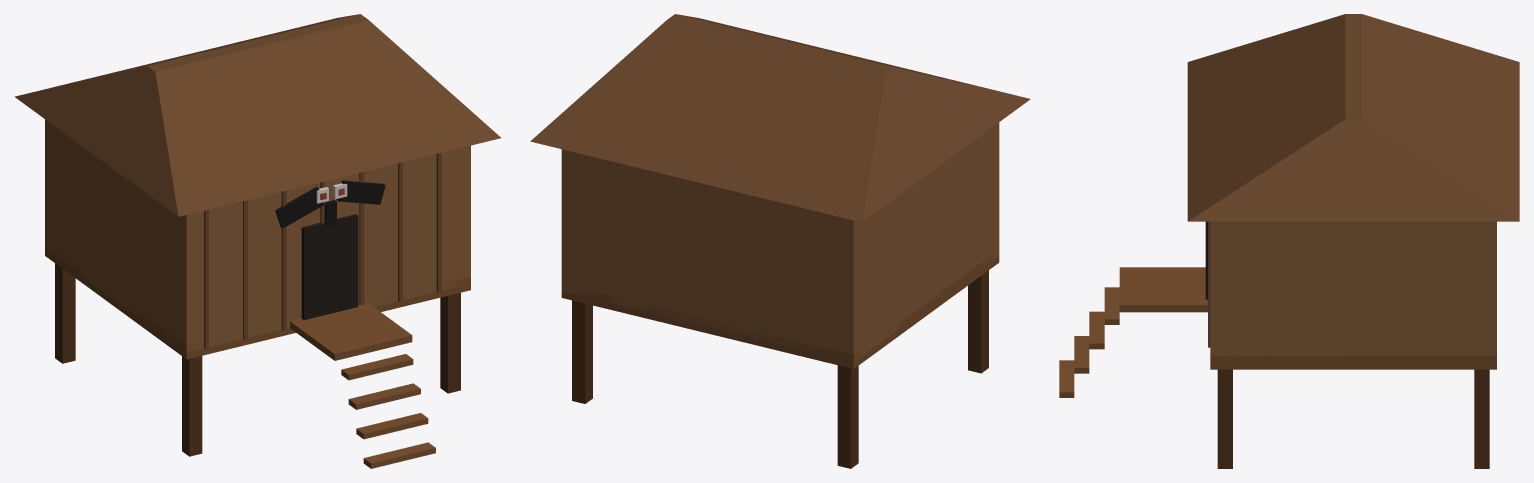
The model's file is bird_house_a_broken.glb.
3 renders of one model, left to right at view 1: azimuth 30°, elevation 25°; view 2: azimuth 150°, elevation 25°; view 3: azimuth 270°, elevation 25°, orthographic. The views are drawn at different scales.
Visible parts, largest first — view 1: bird_house_a_piece1, bird_house_a_piece13, bird_house_a_piece5, bird_house_a_piece0, bird_house_a_piece2, bird_house_a_piece7, bird_house_a_piece6, bird_house_a_piece10; view 2: bird_house_a_piece2, bird_house_a_piece1, bird_house_a_piece3, bird_house_a_piece9, bird_house_a_piece4, bird_house_a_piece10, bird_house_a_piece7, bird_house_a_piece6, bird_house_a_piece12, bird_house_a_piece5; view 3: bird_house_a_piece3, bird_house_a_piece13, bird_house_a_piece1, bird_house_a_piece2, bird_house_a_piece4, bird_house_a_piece5, bird_house_a_piece6, bird_house_a_piece0, bird_house_a_piece7, bird_house_a_piece9, bird_house_a_piece10.
Part boxes in pixels (bbox=[...]): bird_house_a_piece1: bbox=[46, 54, 347, 436]; bird_house_a_piece13: bbox=[367, 76, 500, 393]; bird_house_a_piece5: bbox=[182, 141, 435, 468]; bird_house_a_piece0: bbox=[322, 57, 407, 316]; bird_house_a_piece2: bbox=[14, 25, 319, 363]; bird_house_a_piece7: bbox=[66, 43, 323, 280]; bird_house_a_piece6: bbox=[292, 14, 447, 90]; bird_house_a_piece10: bbox=[26, 54, 201, 288]; bird_house_a_piece2: bbox=[691, 26, 875, 468]; bird_house_a_piece1: bbox=[821, 48, 1030, 358]; bird_house_a_piece3: bbox=[530, 20, 692, 383]; bird_house_a_piece9: bbox=[645, 120, 797, 354]; bird_house_a_piece4: bbox=[572, 96, 699, 403]; bird_house_a_piece10: bbox=[834, 58, 899, 342]; bird_house_a_piece7: bbox=[756, 33, 889, 352]; bird_house_a_piece6: bbox=[666, 14, 746, 81]; bird_house_a_piece12: bbox=[690, 87, 743, 211]; bird_house_a_piece5: bbox=[818, 47, 988, 373]; bird_house_a_piece3: bbox=[1238, 119, 1519, 452]; bird_house_a_piece13: bbox=[1161, 147, 1279, 468]; bird_house_a_piece1: bbox=[1187, 14, 1430, 137]; bird_house_a_piece2: bbox=[1320, 45, 1519, 122]; bird_house_a_piece4: bbox=[1248, 124, 1519, 468]; bird_house_a_piece5: bbox=[1059, 134, 1223, 397]; bird_house_a_piece6: bbox=[1235, 94, 1418, 237]; bird_house_a_piece0: bbox=[1176, 103, 1317, 304]; bird_house_a_piece7: bbox=[1246, 38, 1431, 120]; bird_house_a_piece9: bbox=[1456, 125, 1519, 154]; bird_house_a_piece10: bbox=[1357, 35, 1478, 49].
Size of the model in its own units: 2.5 by 2.45 by 3.05.
